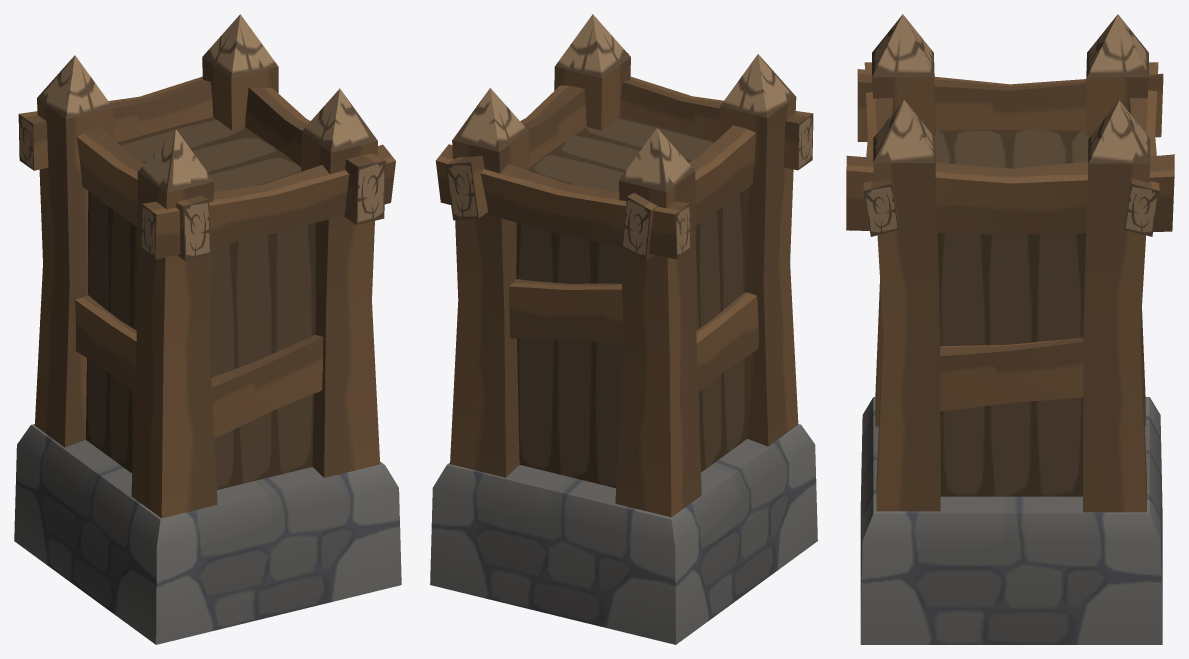
File: Wall_A_corner.FBX
The picture shows the model from 3 angles, left to right: view 1: azimuth 30°, elevation 25°; view 2: azimuth 150°, elevation 25°; view 3: azimuth 270°, elevation 25°; orthographic projection. The views are drawn at different scales.
Parts seen in each view (by area): view 1: Wall_A_corner; view 2: Wall_A_corner; view 3: Wall_A_corner.
Part boxes in pixels (x1,y1,x2,y2): Wall_A_corner: (14,14,401,644); Wall_A_corner: (430,14,817,644); Wall_A_corner: (846,14,1174,644).
Size of the model in its own units: 300 by 574 by 326.
